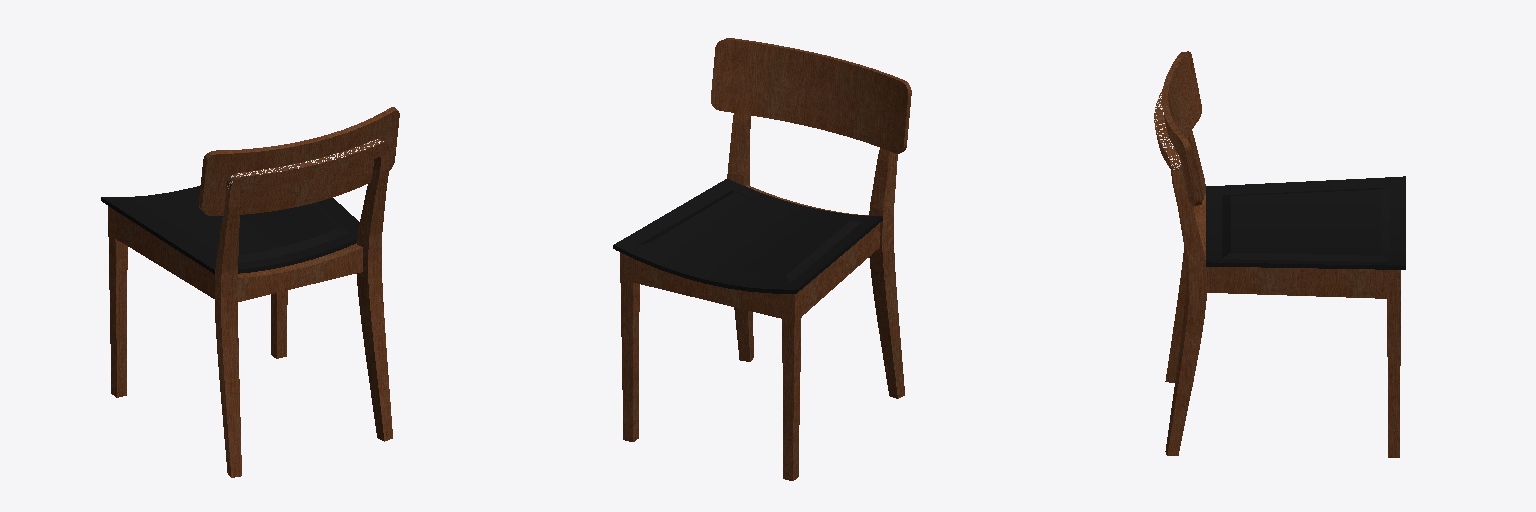
3 renders of one model, left to right at view 1: azimuth 30°, elevation 25°; view 2: azimuth 150°, elevation 25°; view 3: azimuth 270°, elevation 25°, orthographic.
Parts seen in each view (by area): view 1: mesh17_mesh17-geometry, mesh11_mesh11-geometry, mesh3_mesh3-geometry, mesh21_mesh21-geometry, mesh8_mesh8-geometry, mesh19_mesh19-geometry, mesh1_mesh1-geometry, mesh15_mesh15-geometry; view 2: mesh11_mesh11-geometry, mesh3_mesh3-geometry, mesh17_mesh17-geometry, mesh19_mesh19-geometry, mesh15_mesh15-geometry, mesh9_mesh9-geometry, mesh1_mesh1-geometry; view 3: mesh11_mesh11-geometry, mesh17_mesh17-geometry, mesh6_mesh6-geometry, mesh3_mesh3-geometry, mesh15_mesh15-geometry, mesh8_mesh8-geometry.
Part boxes in pixels (x1,y1,x2,y2): mesh17_mesh17-geometry: (215, 153, 392, 477); mesh11_mesh11-geometry: (101, 185, 359, 273); mesh3_mesh3-geometry: (199, 107, 399, 215); mesh21_mesh21-geometry: (238, 243, 362, 301); mesh8_mesh8-geometry: (226, 139, 389, 190); mesh19_mesh19-geometry: (108, 206, 127, 397); mesh1_mesh1-geometry: (115, 211, 214, 298); mesh15_mesh15-geometry: (271, 290, 287, 358); mesh11_mesh11-geometry: (613, 178, 882, 293); mesh3_mesh3-geometry: (711, 38, 911, 153); mesh17_mesh17-geometry: (727, 113, 904, 398); mesh19_mesh19-geometry: (782, 290, 801, 480); mesh15_mesh15-geometry: (620, 252, 639, 441); mesh9_mesh9-geometry: (632, 258, 781, 318); mesh1_mesh1-geometry: (802, 223, 879, 315); mesh11_mesh11-geometry: (1206, 176, 1405, 269); mesh17_mesh17-geometry: (1165, 131, 1206, 455); mesh6_mesh6-geometry: (1206, 267, 1386, 298); mesh3_mesh3-geometry: (1162, 51, 1201, 205); mesh15_mesh15-geometry: (1387, 270, 1400, 457); mesh8_mesh8-geometry: (1154, 89, 1182, 170).
Size of the model in its own units: 0.4557 by 0.7264 by 0.5146.
4 materials, 1 textured.